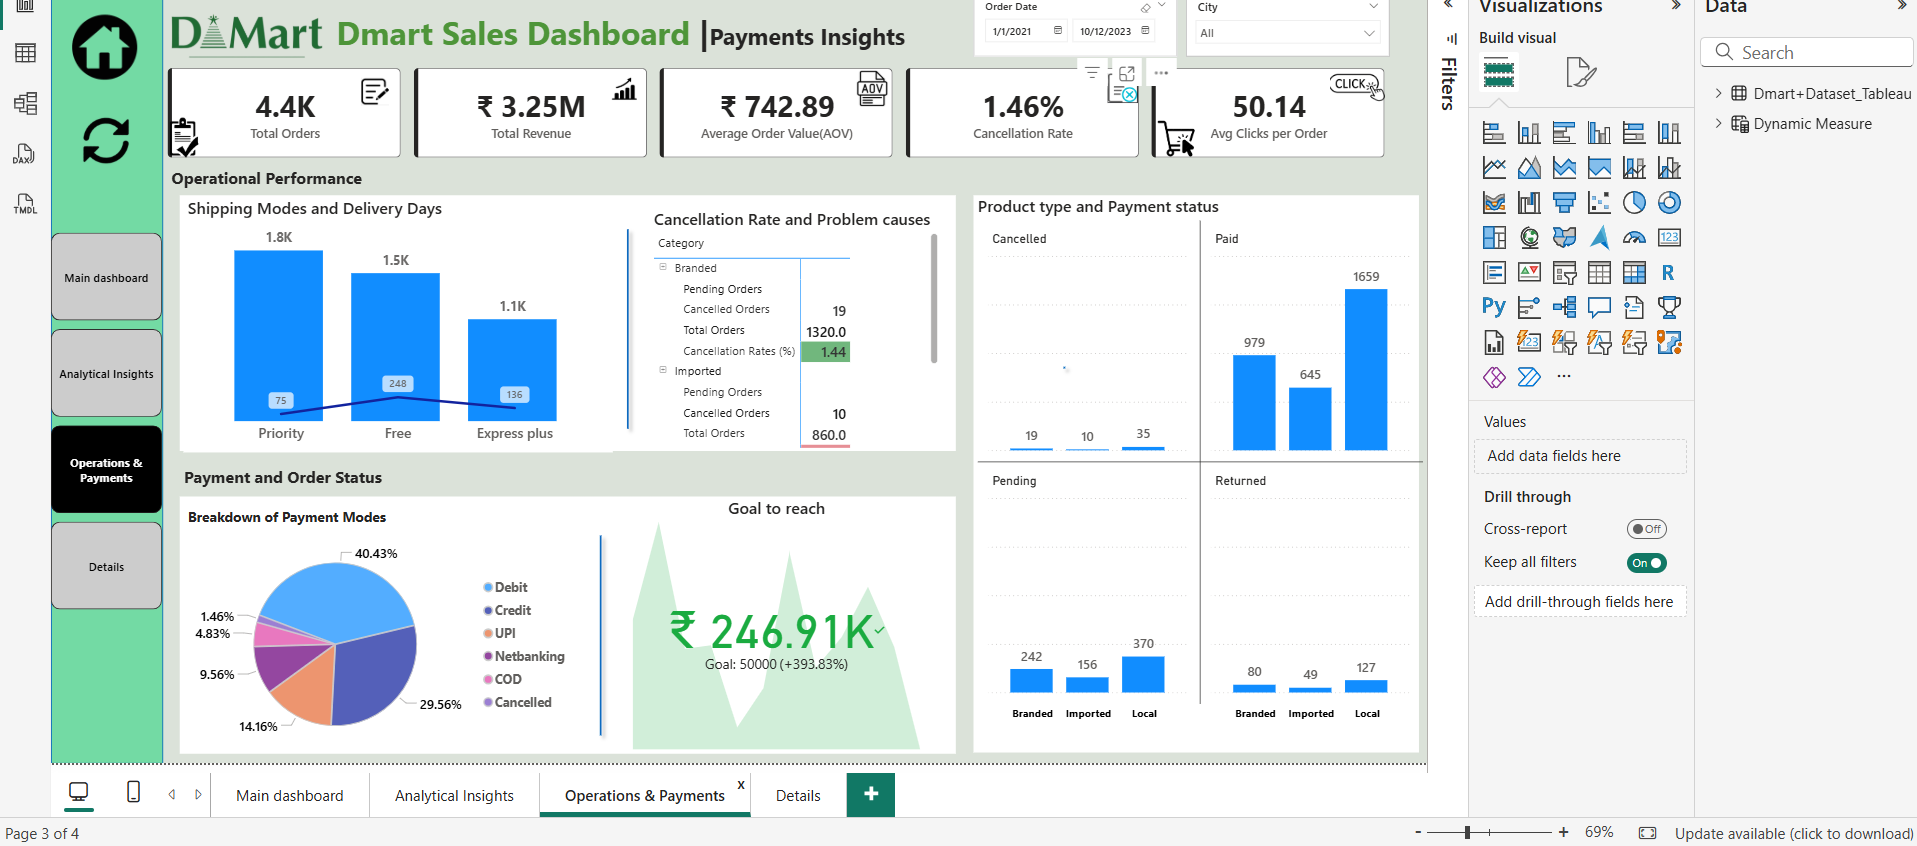

The page's visual inventory and layout, read from the dashboard file:
{"tool":"powerbi","page":{"name":"Operations & Payments","canvas":[1600,900],"ordinal":2},"visuals":[{"type":"textbox","box":[327,20.9,737.4,64.3],"z":0},{"type":"cardVisual","fields":{"Data":["Dmart+Dataset_Tableau.Total Orders","Dmart+Dataset_Tableau.Total Revenue","Dmart+Dataset_Tableau.Average Order Value(AOV)","Dmart+Dataset_Tableau.Cancellation Rate","Dmart+Dataset_Tableau.Avg Clicks per Order"]},"box":[130.4,87,1427.8,114.8],"z":1000},{"type":"image","box":[1223.8,81.4,45.1,68.3],"z":2000},{"type":"image","box":[921.5,84.3,66.9,61],"z":3000},{"type":"image","box":[356.1,94.5,42.2,49.4],"z":4000},{"type":"image","box":[129.4,143.9,50.9,58.1],"z":5000},{"type":"image","box":[633.7,81.4,62.5,64],"z":6000},{"type":"image","box":[1280.5,143.9,58.1,58.1],"z":7000},{"type":"image","box":[1482.6,78.5,75.6,68.3],"z":8000},{"type":"image","box":[135.7,17.4,189.6,69.6],"z":9000},{"type":"slicer","fields":{"Values":["Dmart+Dataset_Tableau.Order Date"]},"box":[1072.9,5.7,237.1,72.9],"z":10000},{"type":"slicer","fields":{"Values":["Dmart+Dataset_Tableau.City"]},"box":[1319.8,5.8,236.9,72.7],"z":11000},{"type":"textbox","box":[135.7,201.7,337.4,38.3],"z":12000},{"type":"shape","box":[149.6,240,902.6,297.4],"z":13000},{"type":"shape","box":[149.6,589.6,902.6,299.1],"z":14000},{"type":"pieChart","title":"Breakdown of Payment Modes","fields":{"Y":["CountNonNull(Dmart+Dataset_Tableau.Order ID)"],"Category":["Dmart+Dataset_Tableau.Payment Method"]},"box":[154.8,601.7,457.4,299.1],"z":15000},{"type":"shape","box":[634,270,74,250],"z":16000},{"type":"textbox","box":[149.6,549.6,325.2,40],"z":17000},{"type":"shape","title":"Number of Clicks BY Product Type","box":[1072,240,518,648],"z":18000},{"type":"shape","box":[988,430,380,20],"z":19000},{"type":"lineStackedColumnComboChart","title":"Shipping Modes and Delivery Days","fields":{"Category":["Dmart+Dataset_Tableau.Ship Mode"],"Y":["CountNonNull(Dmart+Dataset_Tableau.Order ID)"],"Y2":["Avg(Dmart+Dataset_Tableau.Delivery Days)"]},"box":[154.8,241.7,499.1,297.4],"z":20000},{"type":"pivotTable","title":"Cancellation Rate and Problem causes","fields":{"Rows":["Dmart+Dataset_Tableau.Category","Dmart+Dataset_Tableau.Product Name","Dmart+Dataset_Tableau.Ship Mode"],"Values":["Dmart+Dataset_Tableau.Pending Orders","Dmart+Dataset_Tableau.Cancelled Orders","Dmart+Dataset_Tableau.Total Orders","Dmart+Dataset_Tableau.Cancellation Rates (%)"]},"box":[696,254,340,284],"z":21000},{"type":"columnChart","title":"Product type and Payment status","fields":{"Category":["Dmart+Dataset_Tableau.Category"],"Y":["CountNonNull(Dmart+Dataset_Tableau.Order ID)"],"Rows":["Dmart+Dataset_Tableau.Payment Status"]},"box":[1072,240,528,620],"z":22000},{"type":"kpi","title":"Goal to reach","fields":{"Indicator":["Dmart+Dataset_Tableau.Total Revenue"],"TrendLine":["Dmart+Dataset_Tableau.Month"],"Goal":["Dmart+Dataset_Tableau.Target Revenue"]},"box":[671.5,590.1,344.5,299.4],"z":23000},{"type":"shape","box":[0,0,130.4,900.9],"z":24000},{"type":"shape","box":[601.7,626.1,74.8,250.4],"z":25000},{"type":"pageNavigator","box":[0,283.4,129.4,440.4],"z":26000},{"type":"image","box":[10,10,106.1,113],"z":27000},{"type":"image","box":[13.9,128.7,102.6,92.2],"z":28000}]}

Visuals, with their boxes on the page's 1600x900 design canvas (x1, y1, x2, y2). These are canvas units, not pixel positions in the 1917x846 screenshot, which may show the page scaled, cropped or inside an application window:
textbox: x1=327, y1=21, x2=1064, y2=85
cardVisual - Dmart+Dataset_Tableau.Total Orders x Dmart+Dataset_Tableau.Total Revenue: x1=130, y1=87, x2=1558, y2=202
image: x1=1224, y1=81, x2=1269, y2=150
image: x1=922, y1=84, x2=988, y2=145
image: x1=356, y1=94, x2=398, y2=144
image: x1=129, y1=144, x2=180, y2=202
image: x1=634, y1=81, x2=696, y2=145
image: x1=1280, y1=144, x2=1339, y2=202
image: x1=1483, y1=78, x2=1558, y2=147
image: x1=136, y1=17, x2=325, y2=87
slicer - Dmart+Dataset_Tableau.Order Date: x1=1073, y1=6, x2=1310, y2=79
slicer - Dmart+Dataset_Tableau.City: x1=1320, y1=6, x2=1557, y2=78
textbox: x1=136, y1=202, x2=473, y2=240
shape: x1=150, y1=240, x2=1052, y2=537
shape: x1=150, y1=590, x2=1052, y2=889
"Breakdown of Payment Modes" pieChart: x1=155, y1=602, x2=612, y2=901
shape: x1=634, y1=270, x2=708, y2=520
textbox: x1=150, y1=550, x2=475, y2=590
"Number of Clicks BY Product Type" shape: x1=1072, y1=240, x2=1590, y2=888
shape: x1=988, y1=430, x2=1368, y2=450
"Shipping Modes and Delivery Days" lineStackedColumnComboChart: x1=155, y1=242, x2=654, y2=539
"Cancellation Rate and Problem causes" pivotTable: x1=696, y1=254, x2=1036, y2=538
"Product type and Payment status" columnChart: x1=1072, y1=240, x2=1600, y2=860
"Goal to reach" kpi: x1=672, y1=590, x2=1016, y2=890
shape: x1=0, y1=0, x2=130, y2=901
shape: x1=602, y1=626, x2=676, y2=876
pageNavigator: x1=0, y1=283, x2=129, y2=724
image: x1=10, y1=10, x2=116, y2=123
image: x1=14, y1=129, x2=116, y2=221
